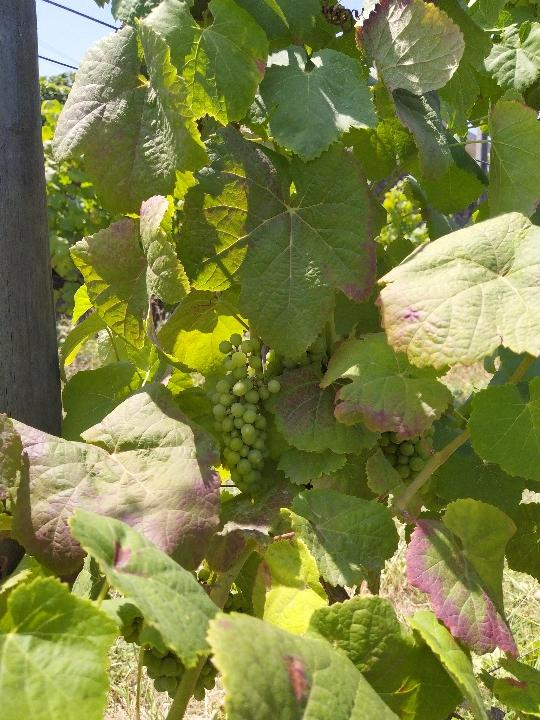grape: (209, 332, 281, 494)
